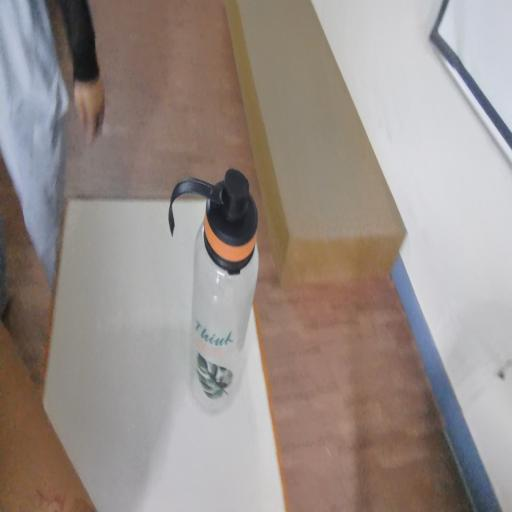Bottle: (194, 186, 261, 402)
